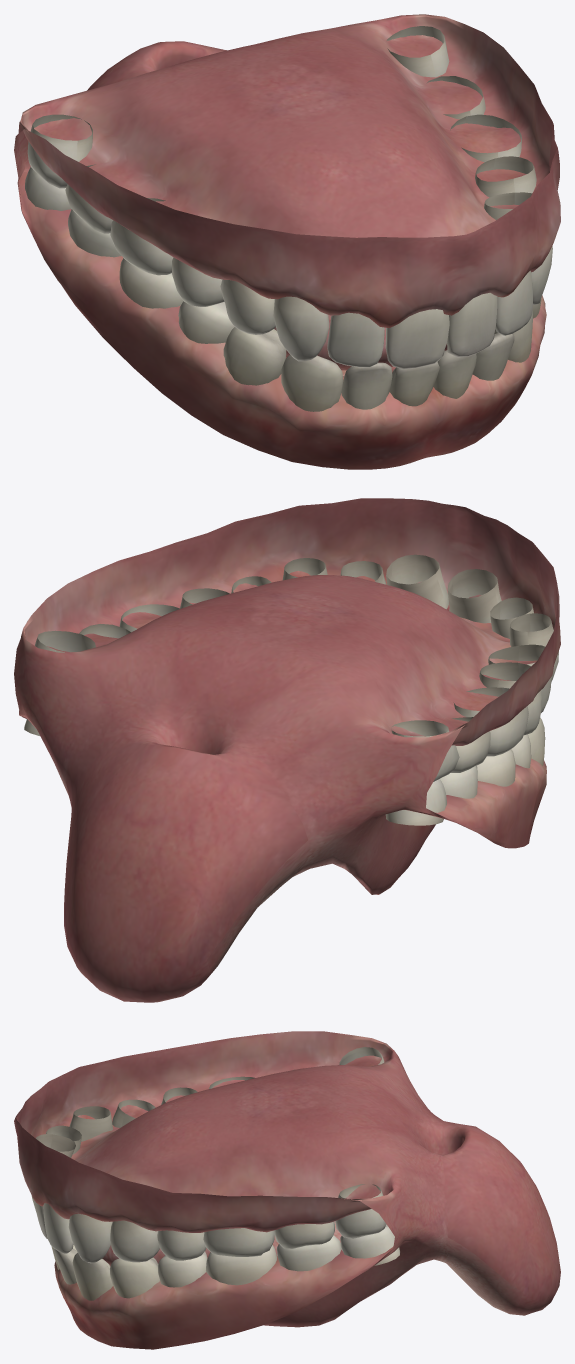
File: human_teeth.glb
3 views of the same model, one above another, from view 1: azimuth 30°, elevation 25°; view 2: azimuth 150°, elevation 25°; view 3: azimuth 270°, elevation 25° (orthographic). The views are drawn at different scales.
Visible parts, largest first — view 1: Gums, Teeth; view 2: Gums, Teeth; view 3: Gums, Teeth.
Boxes of the visible parts, x1,y1,x2,y2 form: Gums: (14, 14, 560, 469); Teeth: (25, 26, 552, 411); Gums: (14, 498, 560, 1002); Teeth: (24, 554, 558, 825); Gums: (14, 1031, 560, 1349); Teeth: (31, 1047, 399, 1300).
Bounding box in the file's own units: 8.75 × 5.25 × 12.22.
2 materials, 2 textured.
